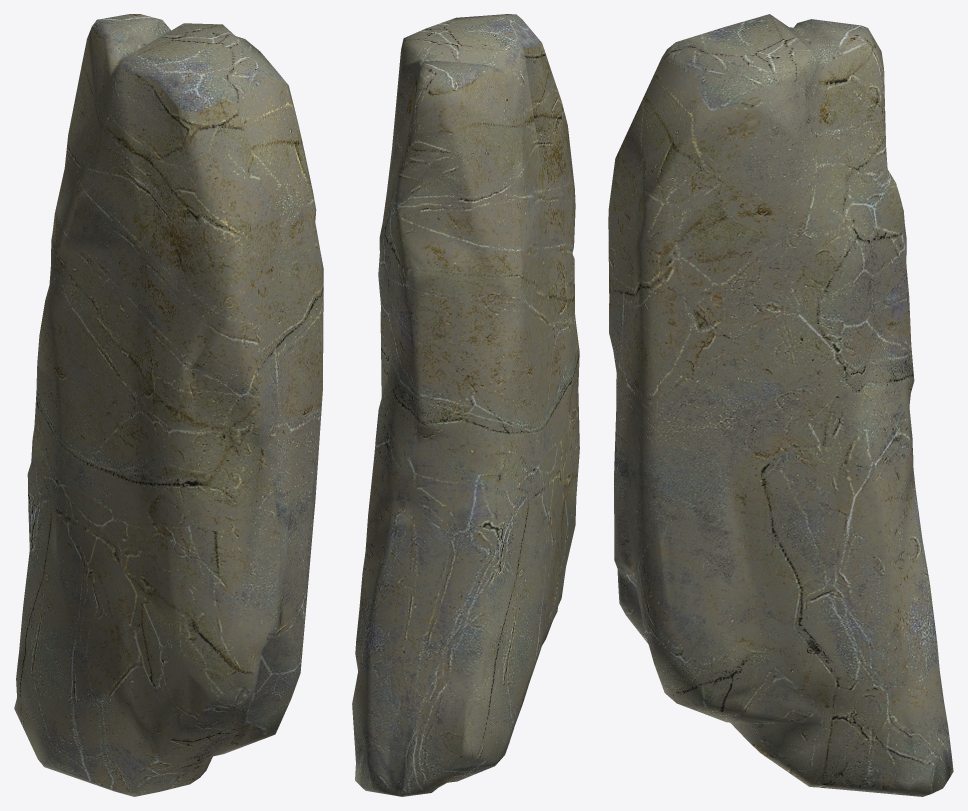
Rendered from cliff2_root.fbx.
3 renders of one model, left to right at view 1: azimuth 30°, elevation 25°; view 2: azimuth 150°, elevation 25°; view 3: azimuth 270°, elevation 25°, orthographic. The views are drawn at different scales.
Visible parts, largest first — view 1: cliff2_sh_5, cliff2_sh_8, cliff2_sh_6, cliff2_sh_7, cliff2_sh_3, cliff2_sh_1, cliff2_sh_4, cliff2_sh_9, cliff2_sh_2; view 2: cliff2_sh_9, cliff2_sh_2, cliff2_sh_1, cliff2_sh_3, cliff2_sh_8, cliff2_sh_6, cliff2_sh_5, cliff2_sh_4, cliff2_sh_7; view 3: cliff2_sh_8, cliff2_sh_1, cliff2_sh_9, cliff2_sh_5, cliff2_sh_3, cliff2_sh_7, cliff2_sh_6, cliff2_sh_2.
Boxes of the visible parts, x1,y1,x2,y2 form: cliff2_sh_5: (46, 510, 314, 743); cliff2_sh_8: (57, 93, 317, 332); cliff2_sh_6: (51, 369, 318, 574); cliff2_sh_7: (158, 216, 323, 469); cliff2_sh_3: (14, 617, 278, 796); cliff2_sh_1: (66, 14, 299, 151); cliff2_sh_4: (76, 216, 228, 386); cliff2_sh_9: (20, 422, 71, 633); cliff2_sh_2: (34, 189, 80, 450); cliff2_sh_9: (355, 345, 543, 687); cliff2_sh_2: (383, 229, 536, 458); cliff2_sh_1: (384, 14, 533, 255); cliff2_sh_3: (352, 609, 556, 796); cliff2_sh_8: (378, 18, 562, 344); cliff2_sh_6: (527, 291, 579, 507); cliff2_sh_5: (521, 443, 579, 613); cliff2_sh_4: (532, 104, 568, 349); cliff2_sh_7: (565, 117, 575, 296); cliff2_sh_8: (621, 46, 892, 407); cliff2_sh_1: (667, 14, 903, 241); cliff2_sh_9: (753, 367, 939, 676); cliff2_sh_5: (614, 480, 829, 694); cliff2_sh_3: (666, 627, 953, 796); cliff2_sh_7: (608, 145, 734, 440); cliff2_sh_6: (614, 393, 794, 493); cliff2_sh_2: (854, 212, 913, 369).
Size of the model in its own units: 22.99 by 91.35 by 38.65.
Materials: 1 (1 with a texture image).
